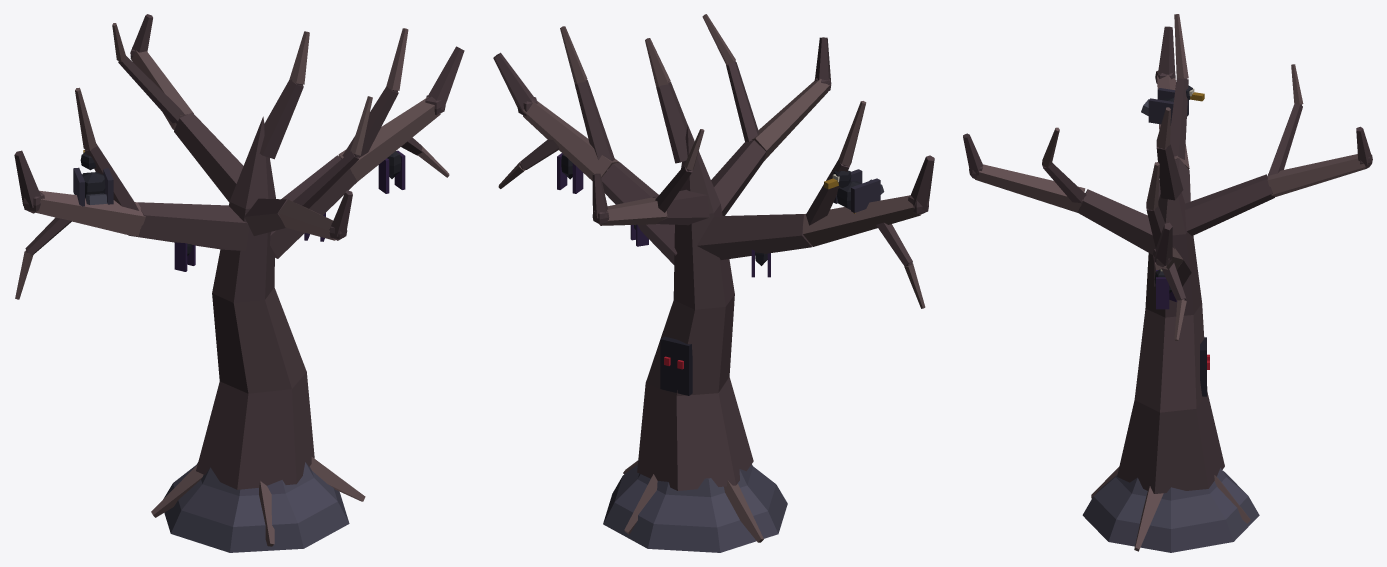
Rendered from Decor_VampireCrypt_Tree.fbx.
3 views of the same model, side by side, from view 1: azimuth 30°, elevation 25°; view 2: azimuth 150°, elevation 25°; view 3: azimuth 270°, elevation 25° (orthographic). The views are drawn at different scales.
Parts seen in each view (by area): view 1: Tree_Body; view 2: Tree_Body; view 3: Tree_Body.
Boxes of the visible parts, <box> form: Tree_Body: <box>14,14,464,552</box>; Tree_Body: <box>493,14,934,552</box>; Tree_Body: <box>963,14,1372,552</box>.
Bounding box in the file's own units: 16.34 × 16.39 × 14.18.
